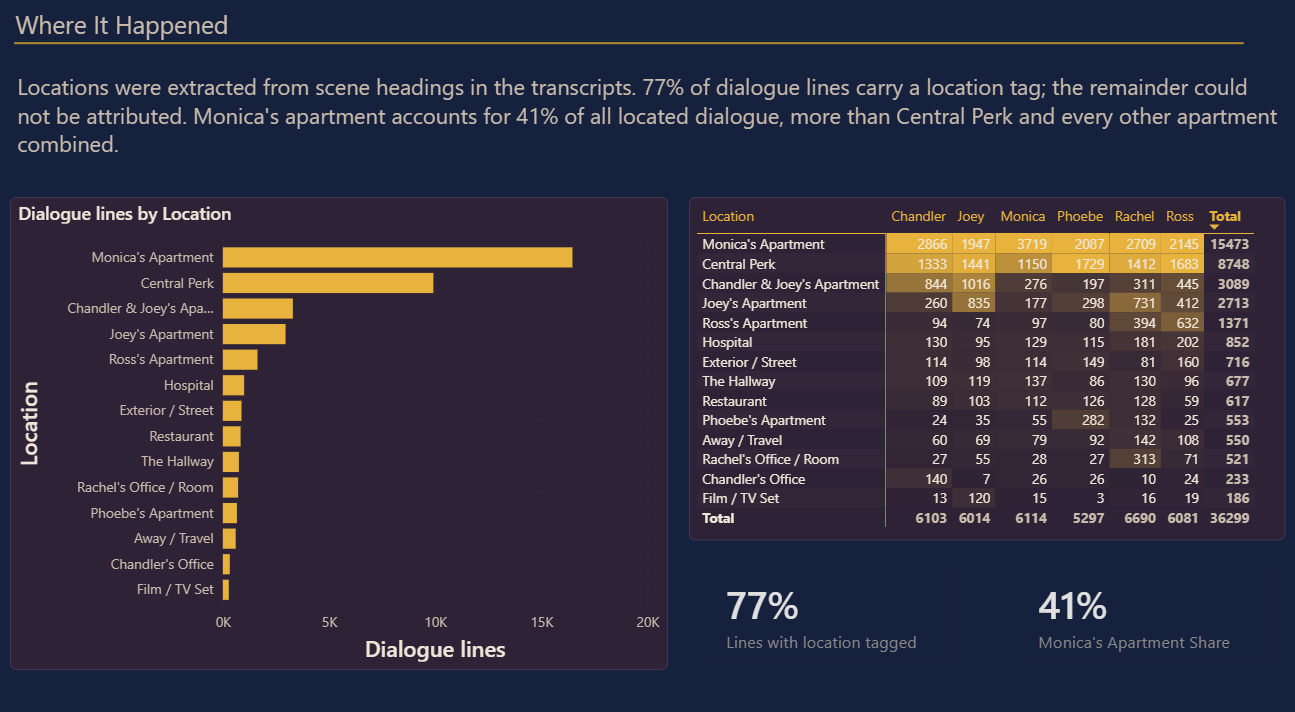

Layout of this report page (visuals, bound fields, positions):
{"tool":"powerbi","page":{"name":"Where It Happened","canvas":[1280,720],"ordinal":3},"visuals":[{"type":"clusteredBarChart","fields":{"Category":["Dialogue.Location"],"Y":["_Measures.Total Lines"]},"box":[15.6,205.2,640,460.1],"z":0},{"type":"pivotTable","fields":{"Columns":["DimCharacter.Name"],"Rows":["Dialogue.Location"],"Values":["_Measures.Total Lines"]},"box":[676,205.2,579.7,333.6],"z":1000},{"type":"textbox","box":[15.6,15.6,302.5,45.7],"z":2000},{"type":"shape","box":[17.5,49.6,1200,12],"z":3000},{"type":"cardVisual","fields":{"Data":["Dialogue.Monica's Apartment Share"]},"box":[1003.8,568,238.3,87.5],"z":3001},{"type":"cardVisual","fields":{"Data":["Dialogue.Location Share"]},"box":[700.3,568,238.3,87.5],"z":3002},{"type":"textbox","box":[17.5,77.8,1238.2,112.8],"z":3003}]}

Visuals, with their boxes in screenshot pixels (x1, y1, x2, y2), scaled from the page's 1280x720 canvas onto the 1295x712 screenshot:
clusteredBarChart - Dialogue.Location x _Measures.Total Lines: 16 203 663 658
pivotTable - DimCharacter.Name x Dialogue.Location: 684 203 1270 533
textbox: 16 15 322 61
shape: 18 49 1232 61
cardVisual - Dialogue.Monica's Apartment Share: 1016 562 1257 648
cardVisual - Dialogue.Location Share: 709 562 950 648
textbox: 18 77 1270 188
